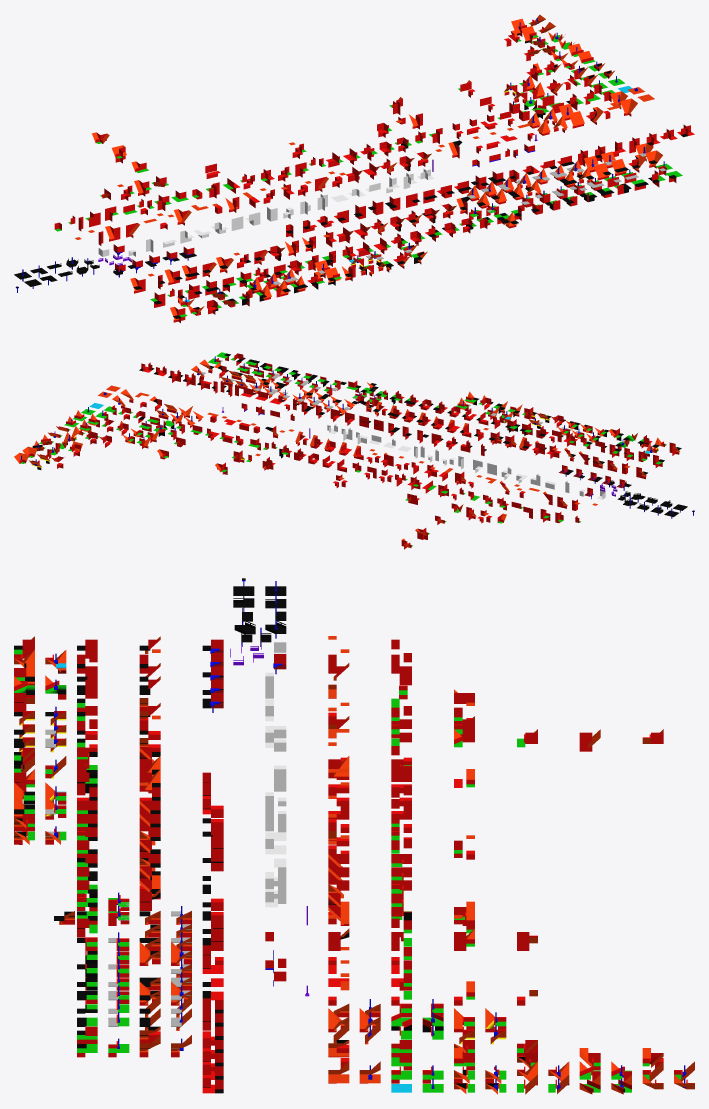
3 renders of one model, top to bottom at view 1: azimuth 30°, elevation 25°; view 2: azimuth 150°, elevation 25°; view 3: azimuth 270°, elevation 25°, orthographic. The views are drawn at different scales.
Size of the model in its own units: 5816 by 125 by 3250.
